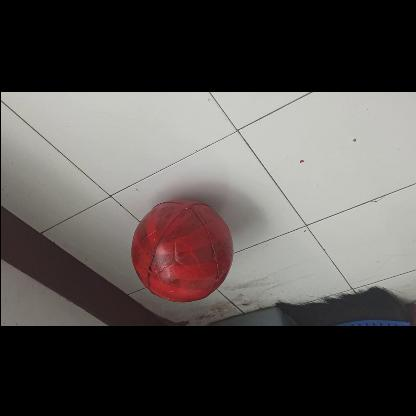red_ball: (128, 196, 232, 300)
